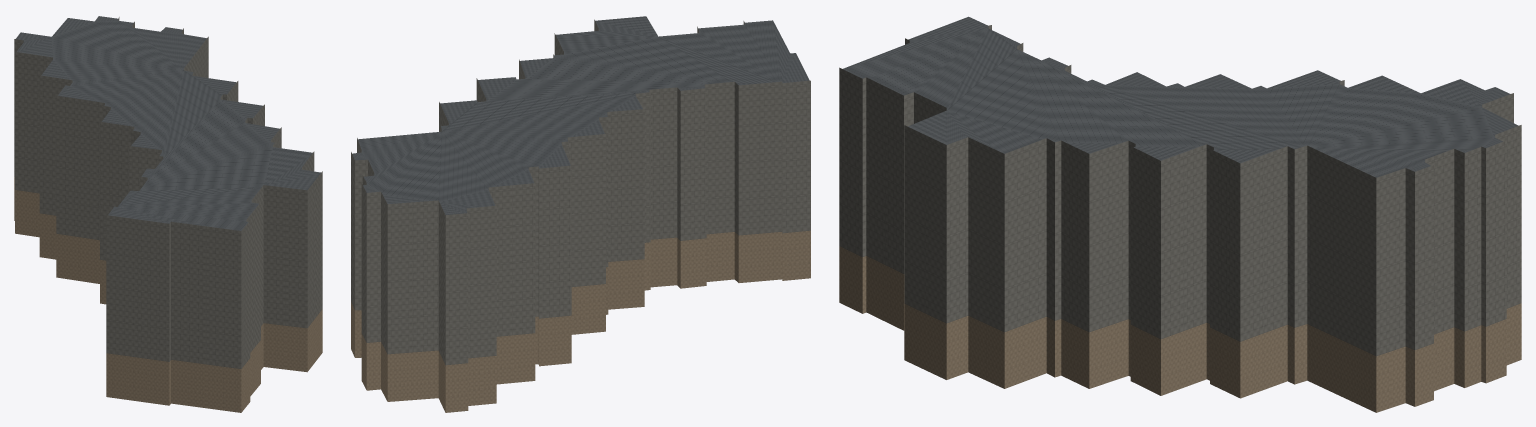
File: bld_c1_-4_562.gltf
3 renders of one model, left to right at view 1: azimuth 30°, elevation 25°; view 2: azimuth 150°, elevation 25°; view 3: azimuth 270°, elevation 25°, orthographic. The views are drawn at different scales.
Parts seen in each view (by area): view 1: bld_c1_-4_562; view 2: bld_c1_-4_562; view 3: bld_c1_-4_562.
Boxes of the visible parts, x1=… form: bld_c1_-4_562: x1=14, y1=16, x2=322, y2=412; bld_c1_-4_562: x1=351, y1=16, x2=810, y2=412; bld_c1_-4_562: x1=839, y1=16, x2=1521, y2=412.
Bounding box in the file's own units: 31.65 × 21.18 × 55.71.
Materials: 4 (4 with a texture image).
